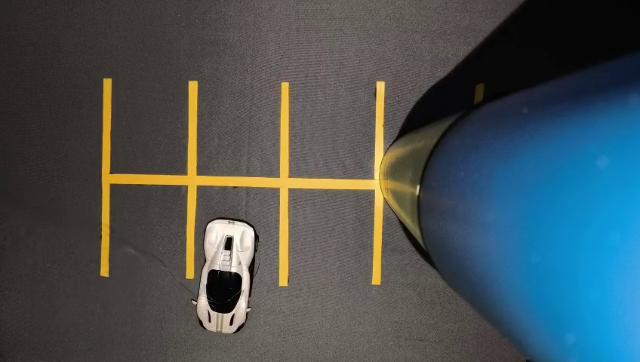toy_car: (183, 202, 276, 349)
